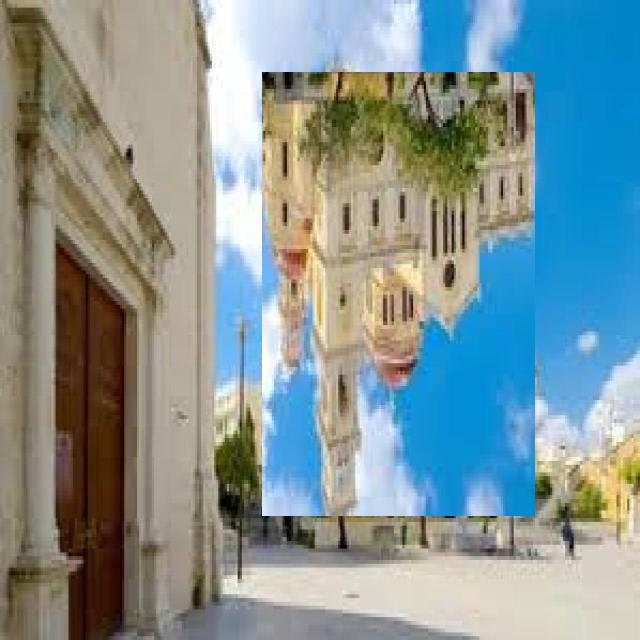Agios Minas: (263, 73, 536, 517)
